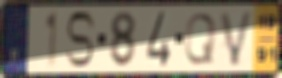1: (43, 9, 62, 71)
4: (146, 11, 172, 68)
8: (109, 10, 138, 69)
Q: (183, 11, 218, 67)
S: (63, 9, 97, 70)
V: (218, 9, 255, 68)
